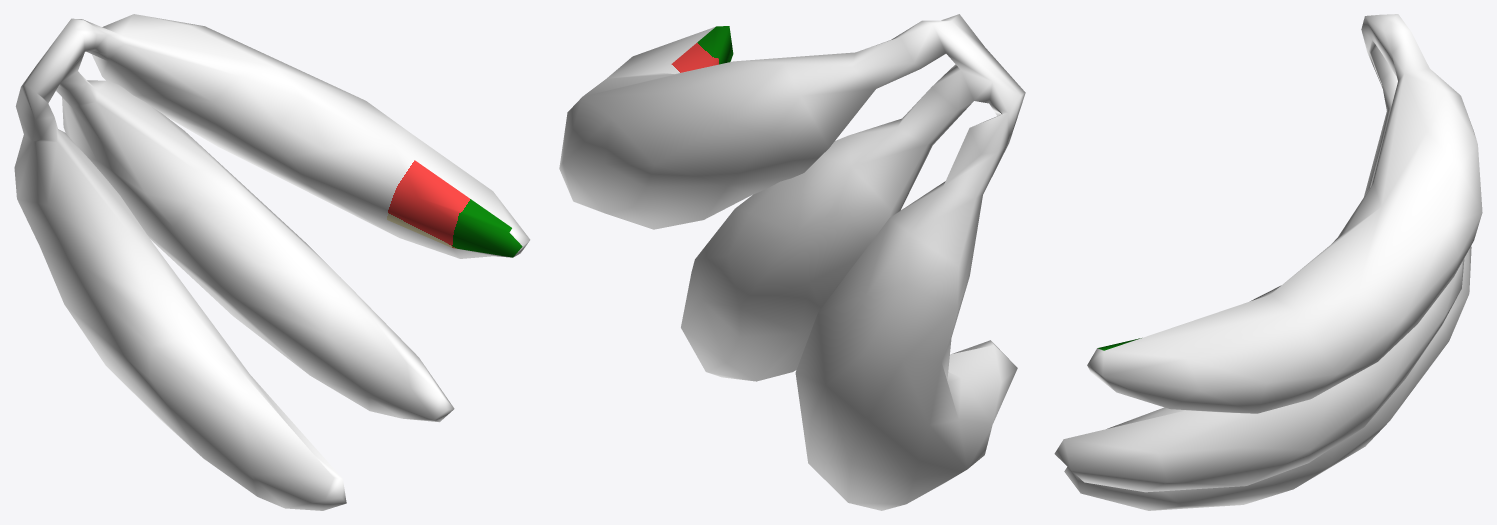
File: right_arm.glb
The picture shows the model from 3 angles, left to right: view 1: azimuth 30°, elevation 25°; view 2: azimuth 150°, elevation 25°; view 3: azimuth 270°, elevation 25°; orthographic projection. The views are drawn at different scales.
Visible parts, largest first — view 1: Low Poly Banana Triple; view 2: Low Poly Banana Triple; view 3: Low Poly Banana Triple.
Boxes of the visible parts, bbox=[...] form: Low Poly Banana Triple: bbox=[14, 14, 530, 510]; Low Poly Banana Triple: bbox=[559, 14, 1025, 510]; Low Poly Banana Triple: bbox=[1054, 14, 1482, 510].
Bounding box in the file's own units: 0.6148 × 0.6483 × 0.5706.
1 material, 1 textured.
